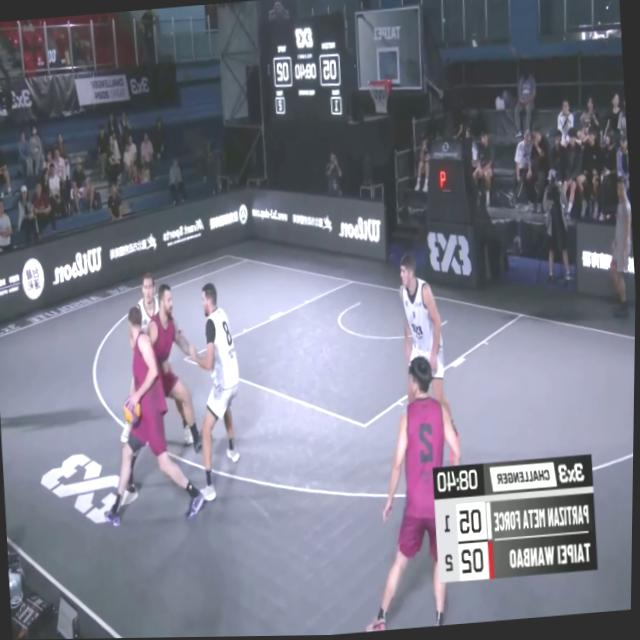ball: (122, 390, 143, 435)
hoop: (367, 72, 395, 119)
player: (345, 347, 477, 633), (91, 297, 209, 525), (112, 284, 215, 494), (187, 280, 252, 503), (132, 266, 197, 453), (396, 258, 458, 447)
